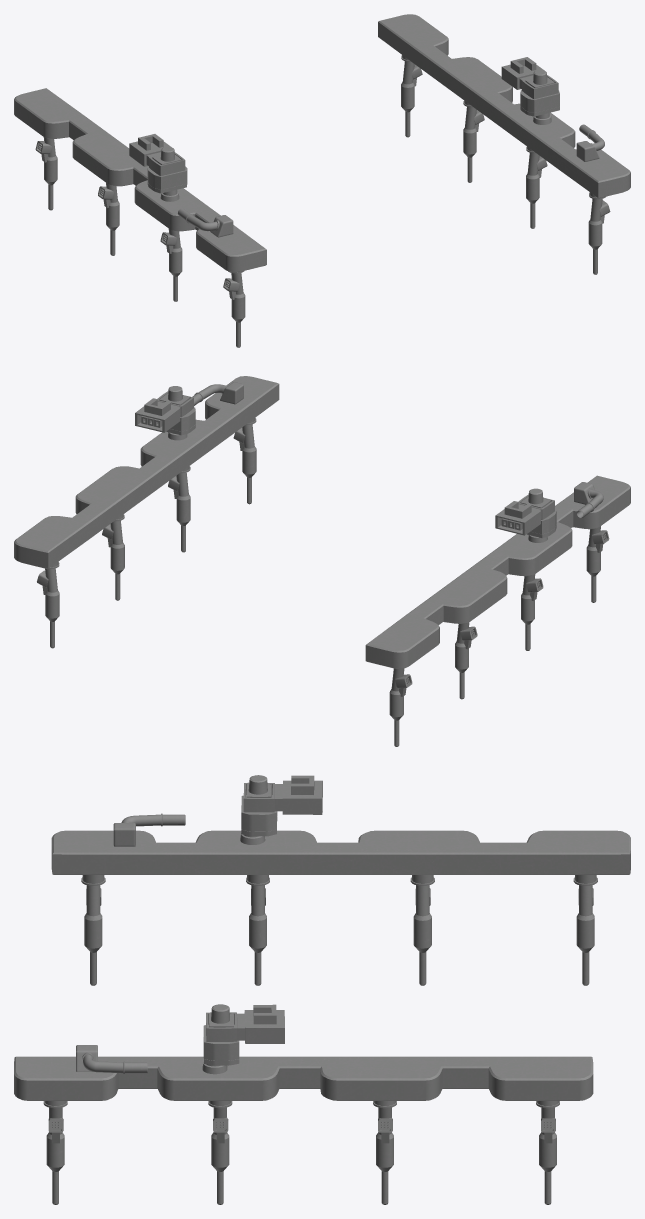
File: injectors.glb
The picture shows the model from 3 angles, top to bottom: view 1: azimuth 30°, elevation 25°; view 2: azimuth 150°, elevation 25°; view 3: azimuth 270°, elevation 25°; orthographic projection. The views are drawn at different scales.
Visible parts, largest first — view 1: listwa_wtryskowa(1), listwa_wtryskowa(0); view 2: listwa_wtryskowa(1), listwa_wtryskowa(0); view 3: listwa_wtryskowa(0), listwa_wtryskowa(1).
Part boxes in pixels (<box>): listwa_wtryskowa(1): <box>378,14,630,274</box>; listwa_wtryskowa(0): <box>14,88,266,347</box>; listwa_wtryskowa(1): <box>14,376,279,648</box>; listwa_wtryskowa(0): <box>365,475,630,746</box>; listwa_wtryskowa(0): <box>51,775,630,985</box>; listwa_wtryskowa(1): <box>14,1004,593,1204</box>.
Bounding box in the file's own units: 0.00786 × 0.00292 × 0.00809.
1 material, 1 textured.
